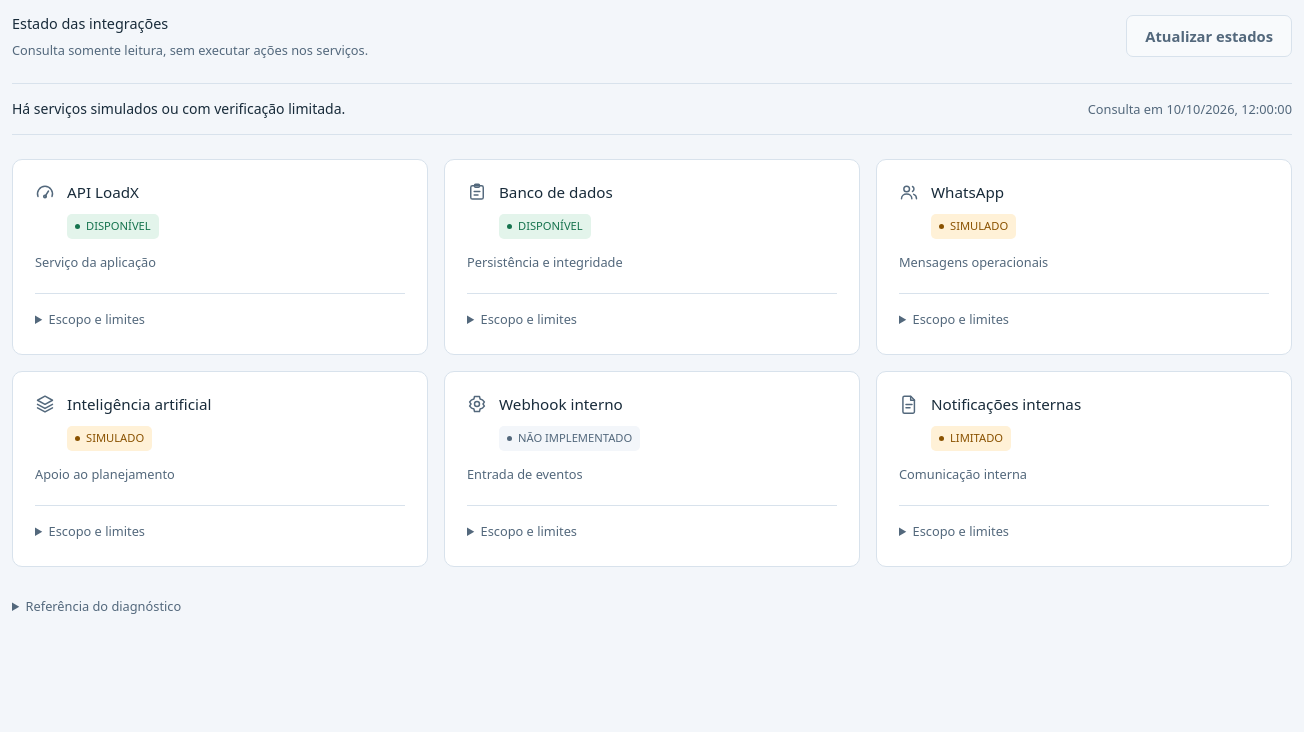
Test: OC108: painel de integrações › perda de autorização limpa snapshot anterior
Expected: the heading "WhatsApp" is shown, top-left (931, 182), bottom-right (1004, 202)
Click the button "Atualizar estados": (1209, 36) top-left (1126, 15), bottom-right (1292, 57)
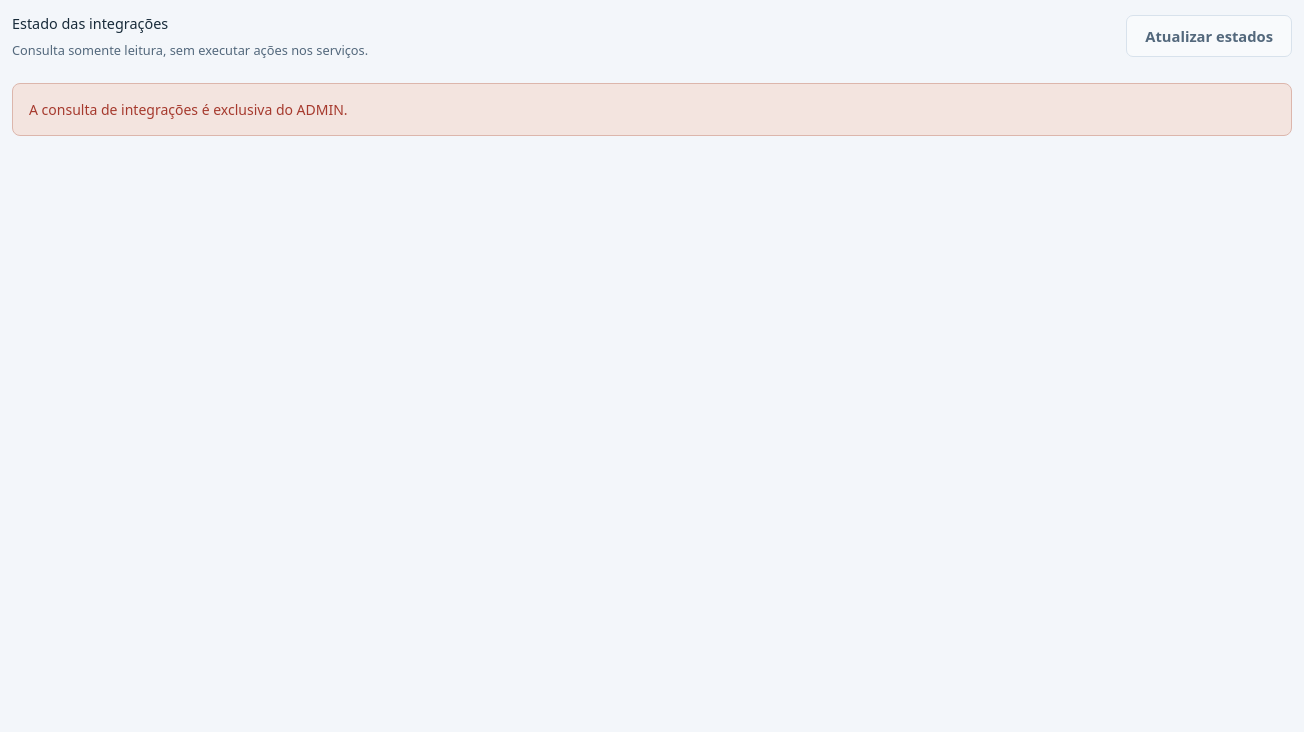
Expected: the message "A consulta de integrações é exclusiva do ADMIN." is shown, top-left (12, 82), bottom-right (1292, 136)
Expected: the heading "WhatsApp" is gone
